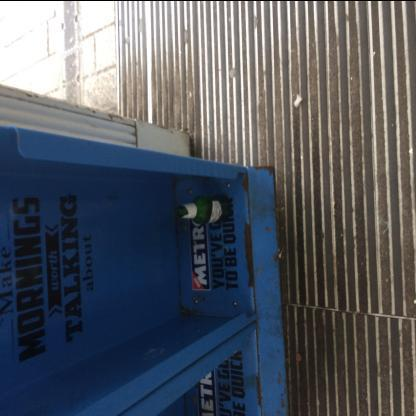cam: (175, 195, 232, 225)
